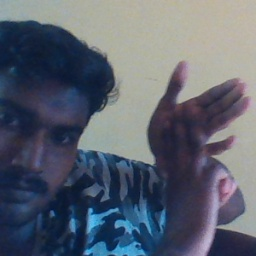M: (139, 58, 252, 204)
